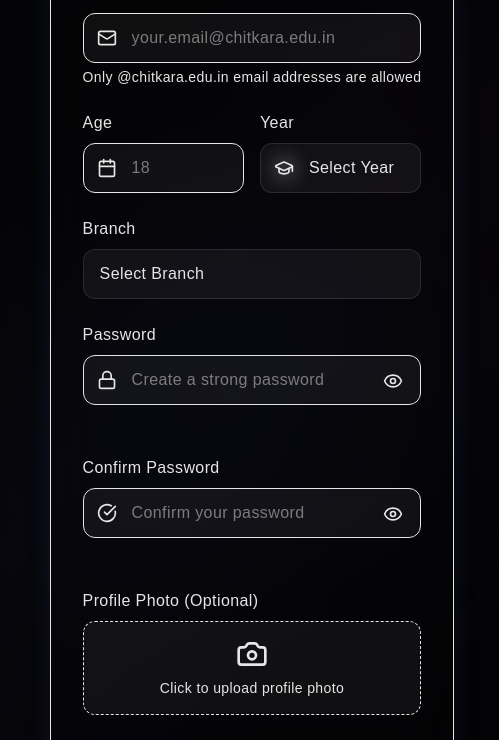
Test: Signup Component › validates password strength
(page scrolled)
Step 1. Type "weak" into the password field labelled "Password" → (252, 380), box [83,355,422,405]
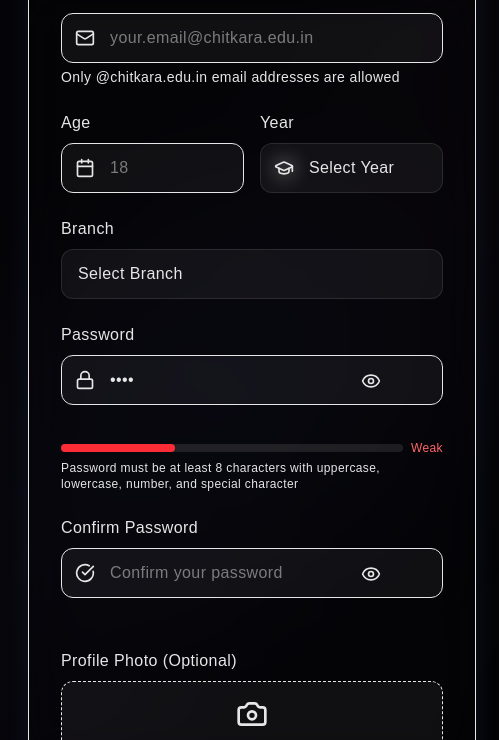
Expected: the text "Weak" is shown, [411,440,443,456]
Step 2. Type "StrongPass123!" into the password field labelled "Password" → (252, 380), box [61,355,443,405]
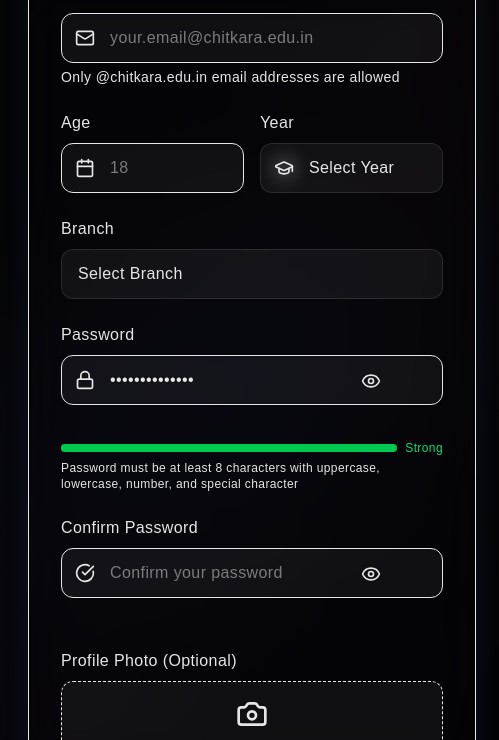
Expected: the text "Strong" is shown, [405,440,443,456]
